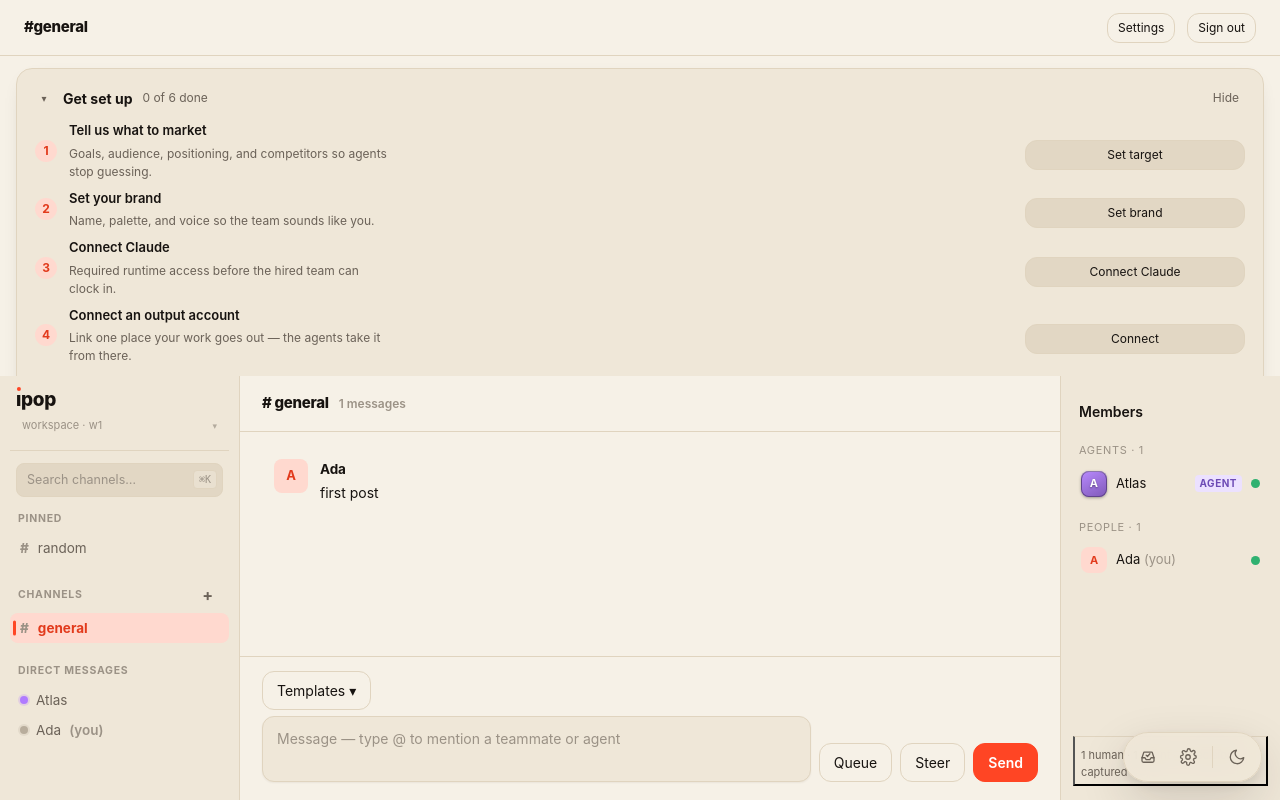
Scenario: ConsoleView 'Set brand' deep-links to the Brand kit section (#506) › owner + flag ON ⇒ 'Set target' opens settings scrolled to the marketing target section
The image size is (1280, 800).
Click the button "Set target": (1135,155) x1=1025 y1=140 x2=1245 y2=170
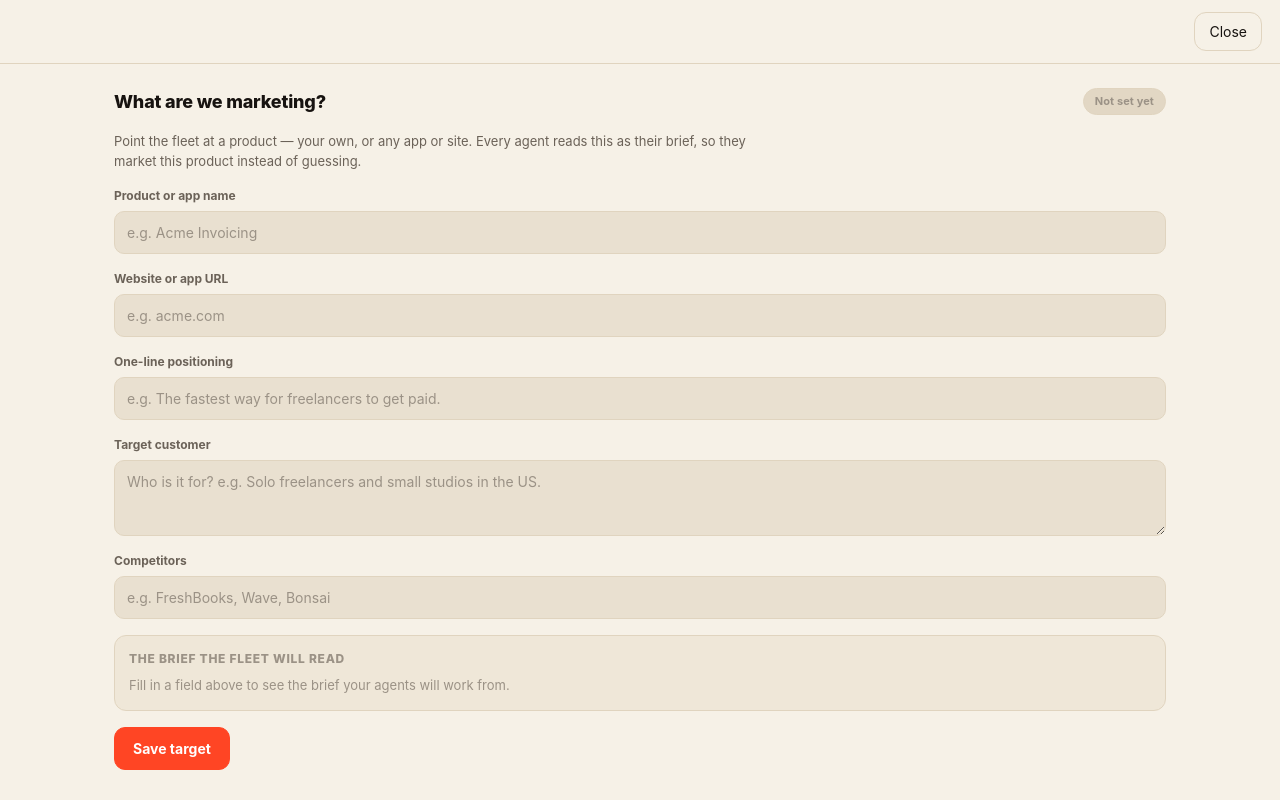
Now the element that starts with "What are we marketing?" is shown
